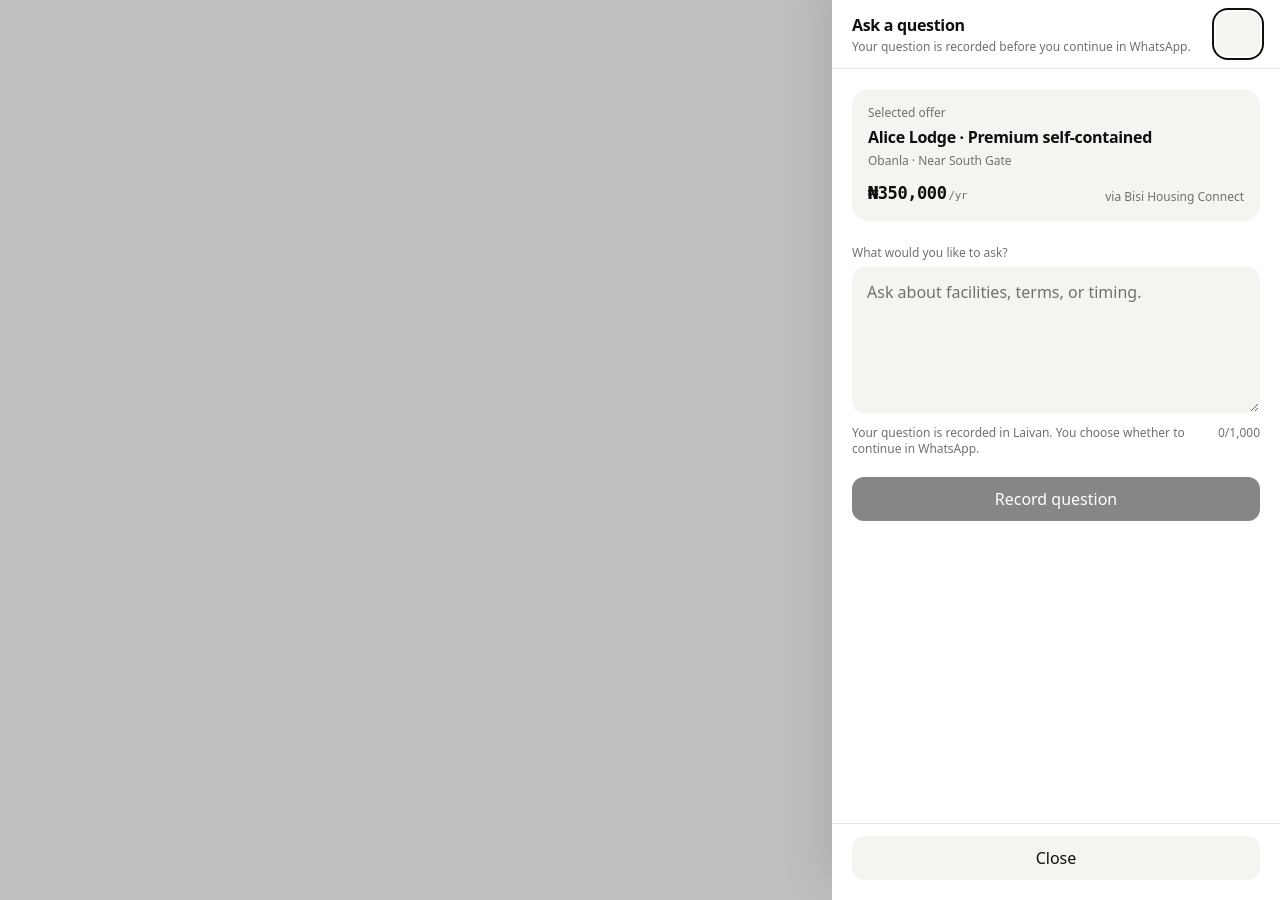
Test case: InquirySheet › explains when the user asks about their own offer
Type "Is this available?" into the text box labelled "What would you like to ask?" at (1056, 340), box [852,267,1260,413]
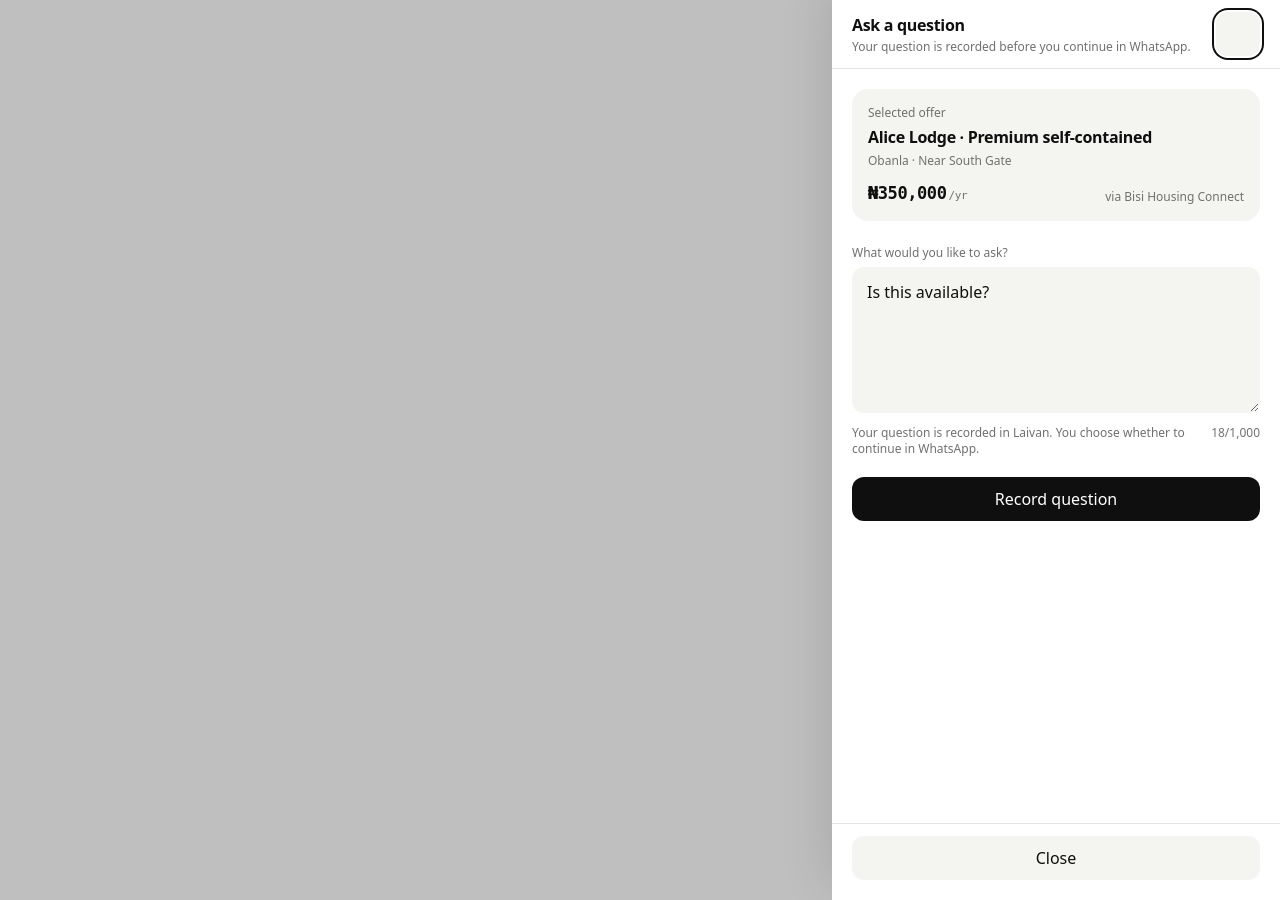
Result: the button "Record question" is enabled
Click the button "Record question" at (1056, 499), box [852,477,1260,521]
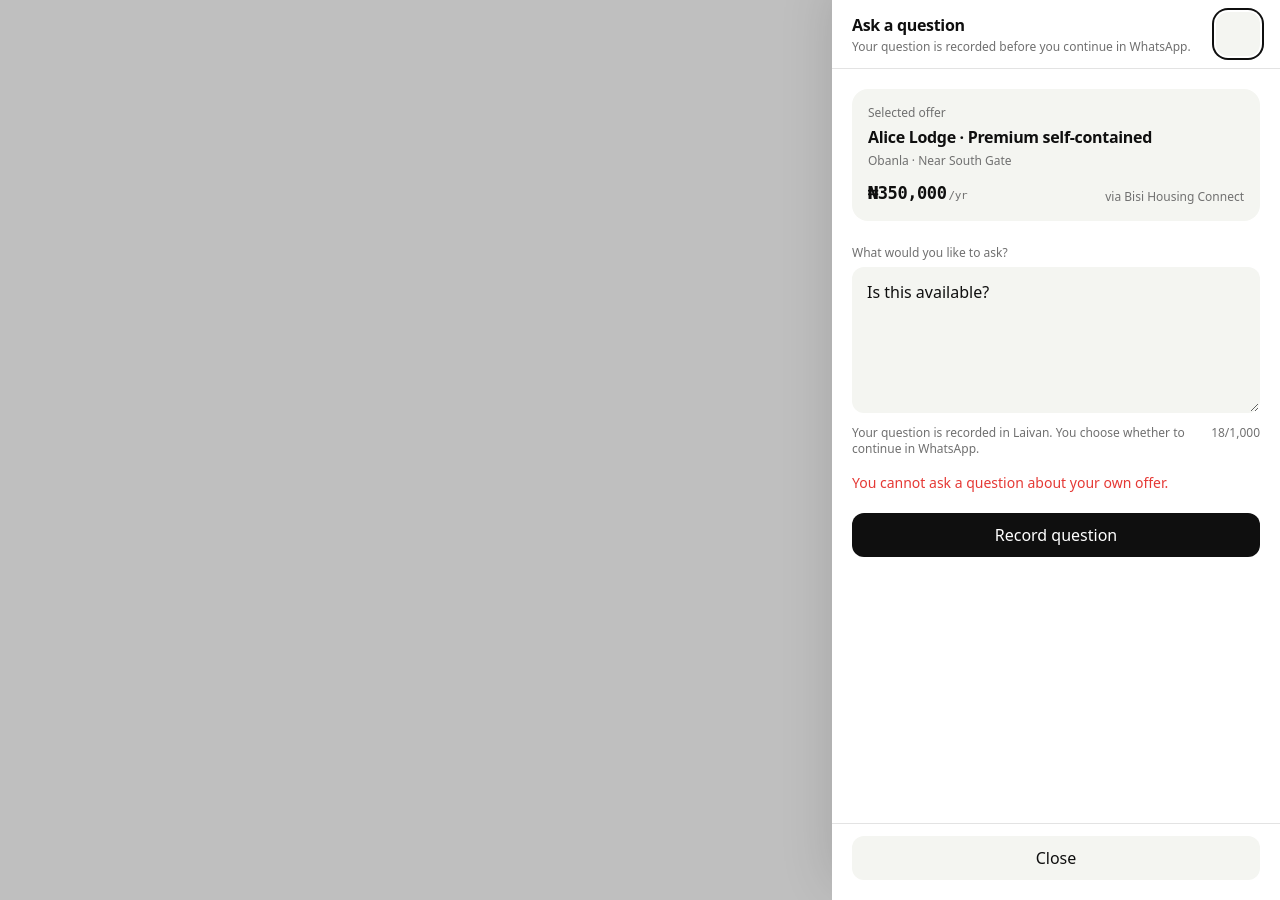
Result: the message shows "cannot ask a question about your own offer" at [852,473,1168,492]
